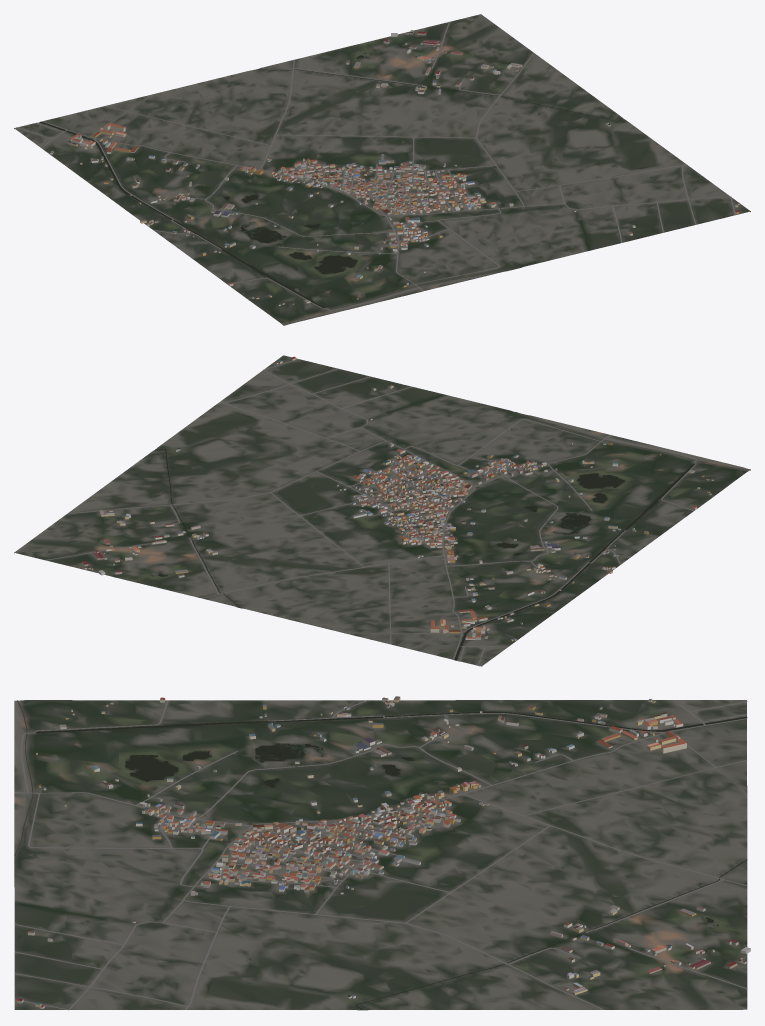
The picture shows the model from 3 angles, top to bottom: view 1: azimuth 30°, elevation 25°; view 2: azimuth 150°, elevation 25°; view 3: azimuth 270°, elevation 25°; orthographic projection. The views are drawn at different scales.
Visible parts, largest first — view 1: ground, buildings, roads, water; view 2: ground, buildings, roads, water; view 3: ground, buildings, roads, water.
Part boxes in pixels (bbox=[...]): ground: bbox=[14, 14, 750, 325]; buildings: bbox=[50, 30, 739, 305]; roads: bbox=[14, 21, 735, 310]; water: bbox=[39, 52, 622, 324]; ground: bbox=[14, 355, 750, 666]; buildings: bbox=[82, 356, 713, 640]; roads: bbox=[45, 359, 696, 666]; water: bbox=[151, 412, 749, 660]; ground: bbox=[14, 700, 747, 1010]; buildings: bbox=[16, 696, 750, 1008]; roads: bbox=[14, 700, 747, 1010]; water: bbox=[14, 700, 747, 1009].
Size of the model in its own units: 1411 by 15.07 by 1410.
